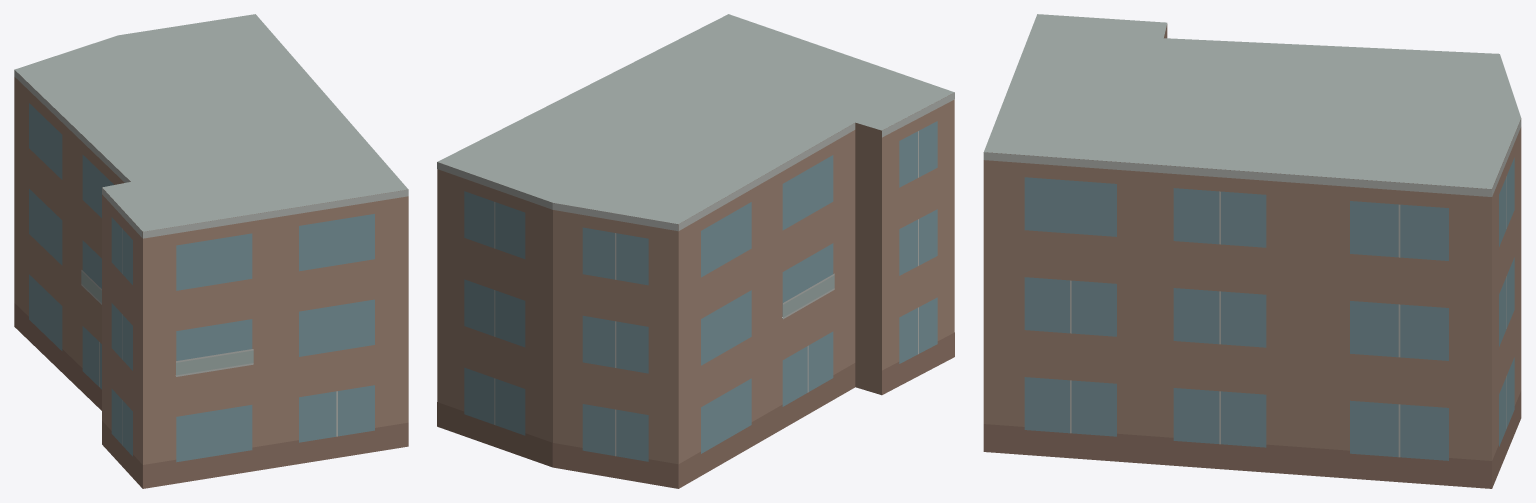
Rendered from survey-upis-32492653.glb.
The picture shows the model from 3 angles, left to right: view 1: azimuth 30°, elevation 25°; view 2: azimuth 150°, elevation 25°; view 3: azimuth 270°, elevation 25°; orthographic projection. The views are drawn at different scales.
Parts seen in each view (by area): view 1: survey-upis-32492653.tmp; view 2: survey-upis-32492653.tmp; view 3: survey-upis-32492653.tmp.
Part boxes in pixels (x1,y1,x2,y2): survey-upis-32492653.tmp: (14,14,408,488); survey-upis-32492653.tmp: (437,14,954,488); survey-upis-32492653.tmp: (983,14,1521,488).
Bounding box in the file's own units: 11.48 × 9.15 × 14.89.
